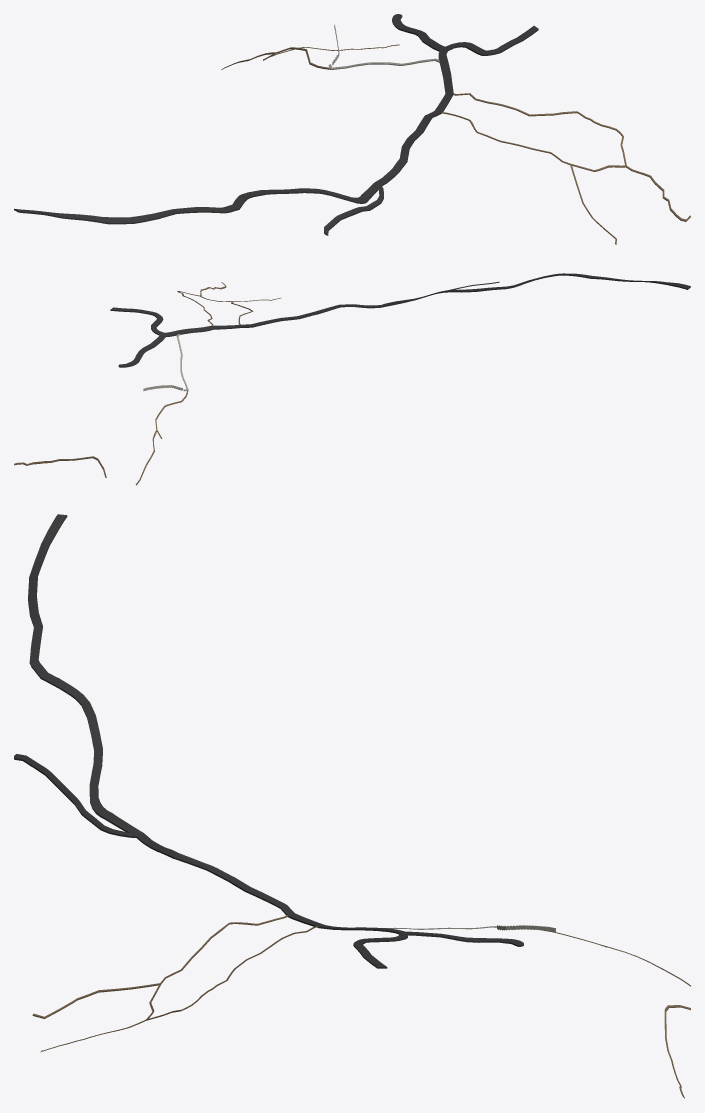
The picture shows the model from 3 angles, top to bottom: view 1: azimuth 30°, elevation 25°; view 2: azimuth 150°, elevation 25°; view 3: azimuth 270°, elevation 25°; orthographic projection. The views are drawn at different scales.
Size of the model in its own units: 587 by 173 by 469.
